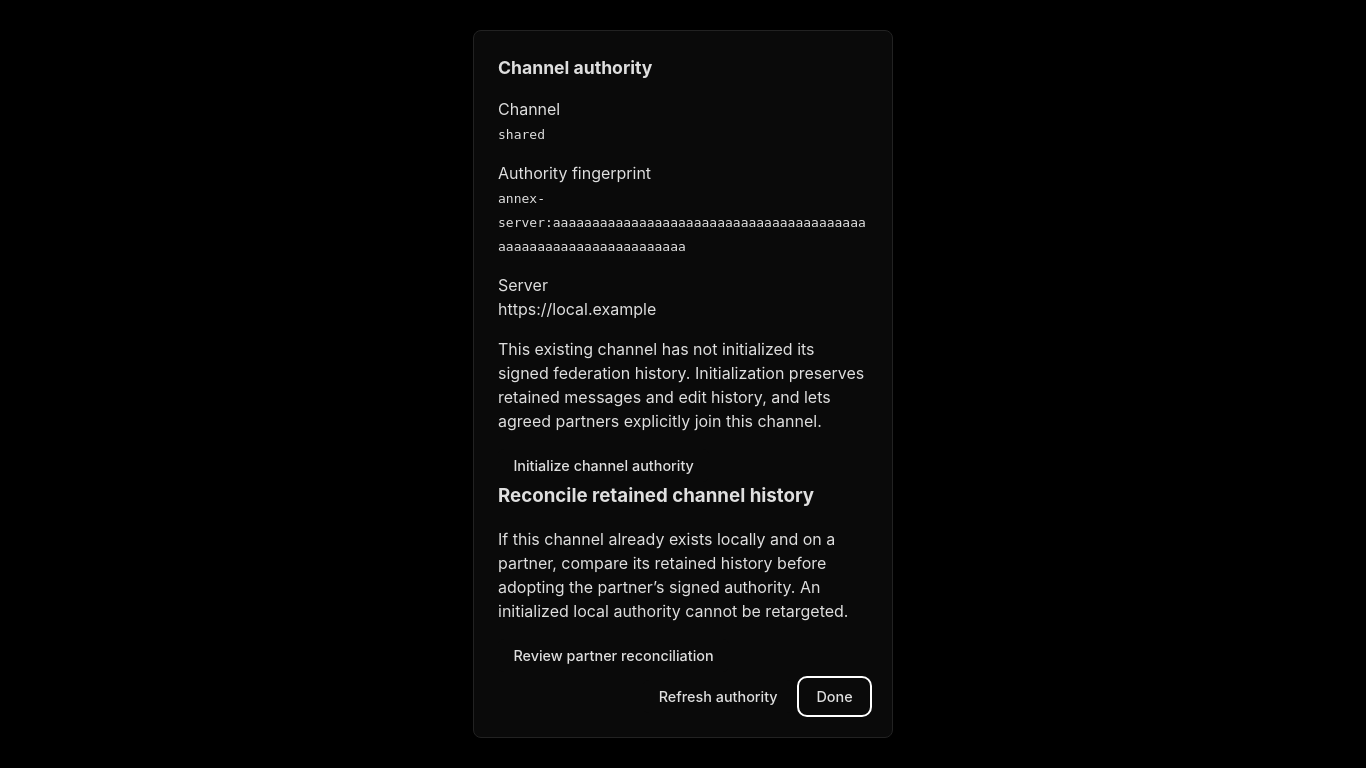
Test: explains retained history and requires separate initialization confirmation
Expected: the dialog shows "preserves retained messages and edit history", [498, 339, 864, 431]
Click the button "Initialize channel authority": (604, 466) [498, 449, 709, 482]
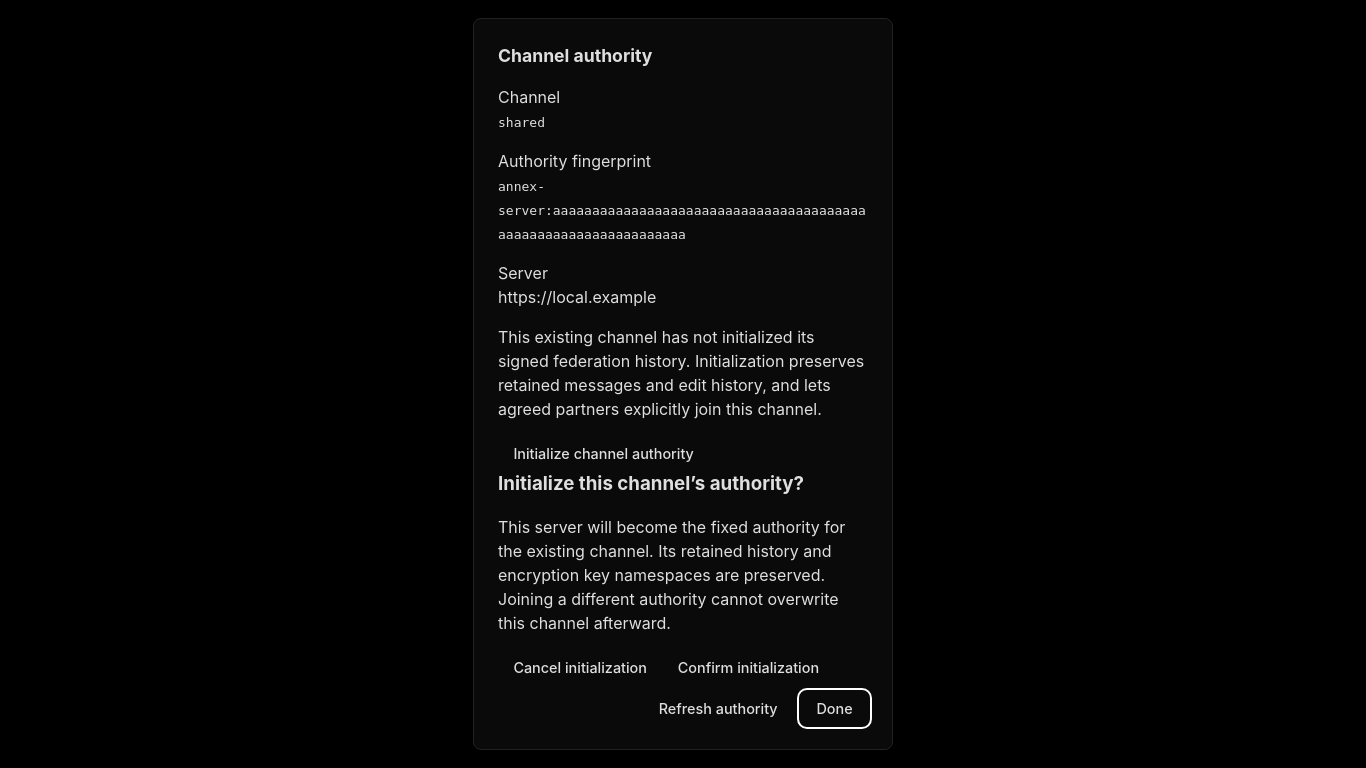
Click the button "Cancel initialization": (580, 667) [498, 650, 662, 684]
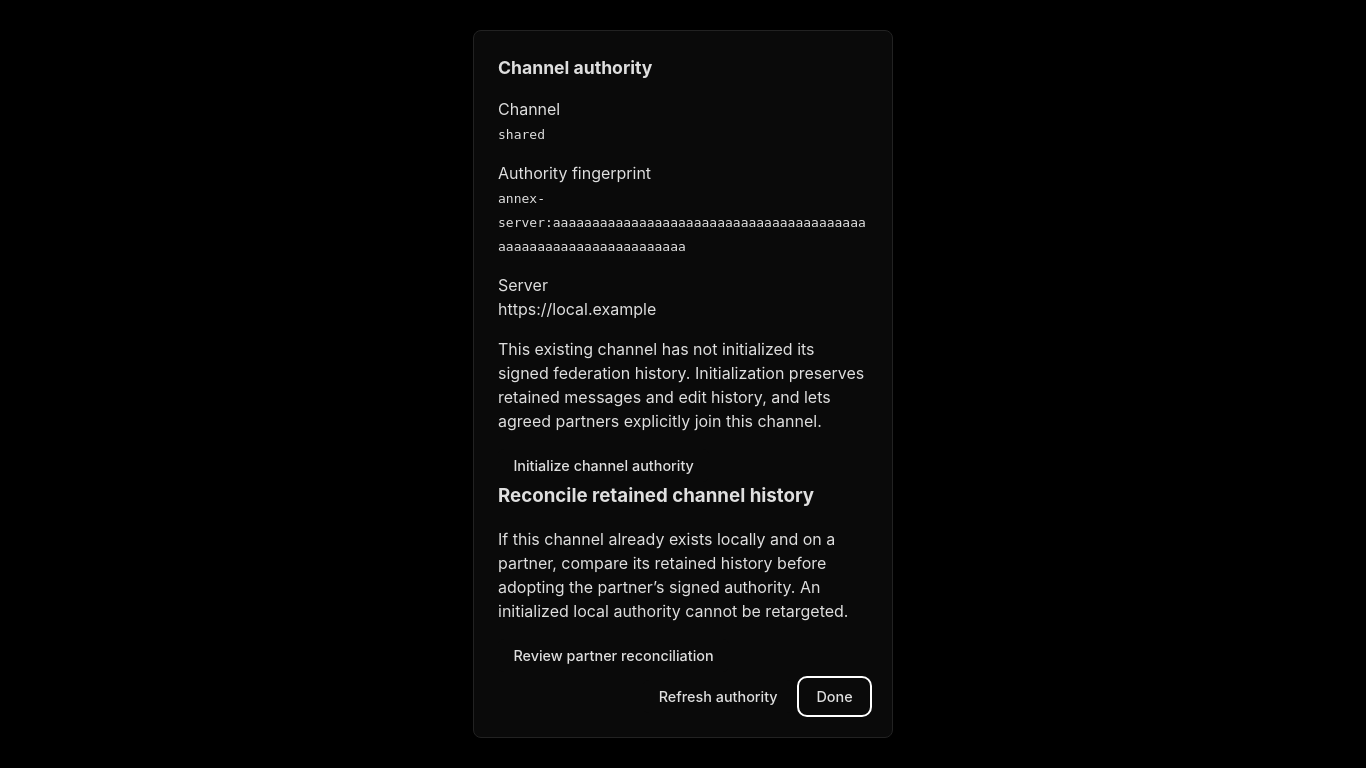
Click the button "Initialize channel authority": (604, 466) [498, 449, 709, 482]
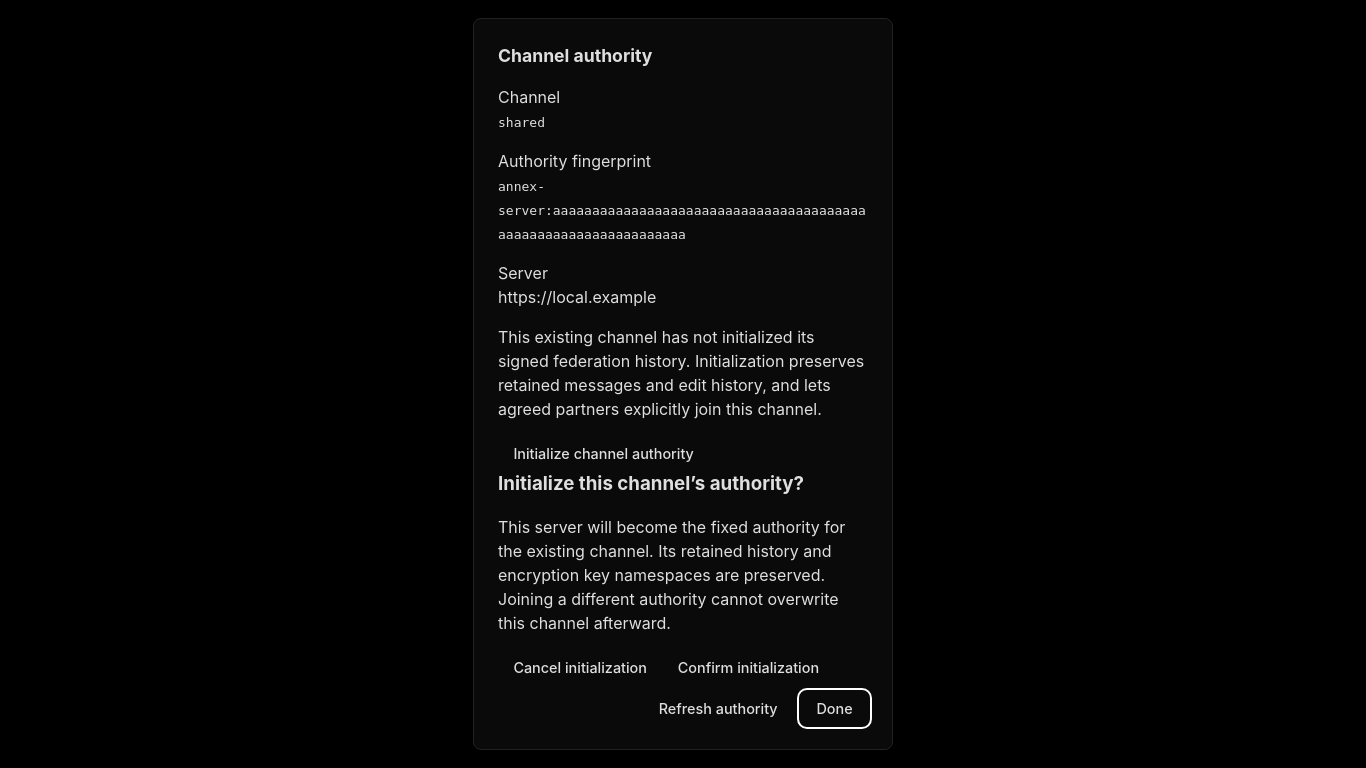
Click the button "Confirm initialization": (748, 667) [662, 650, 834, 684]
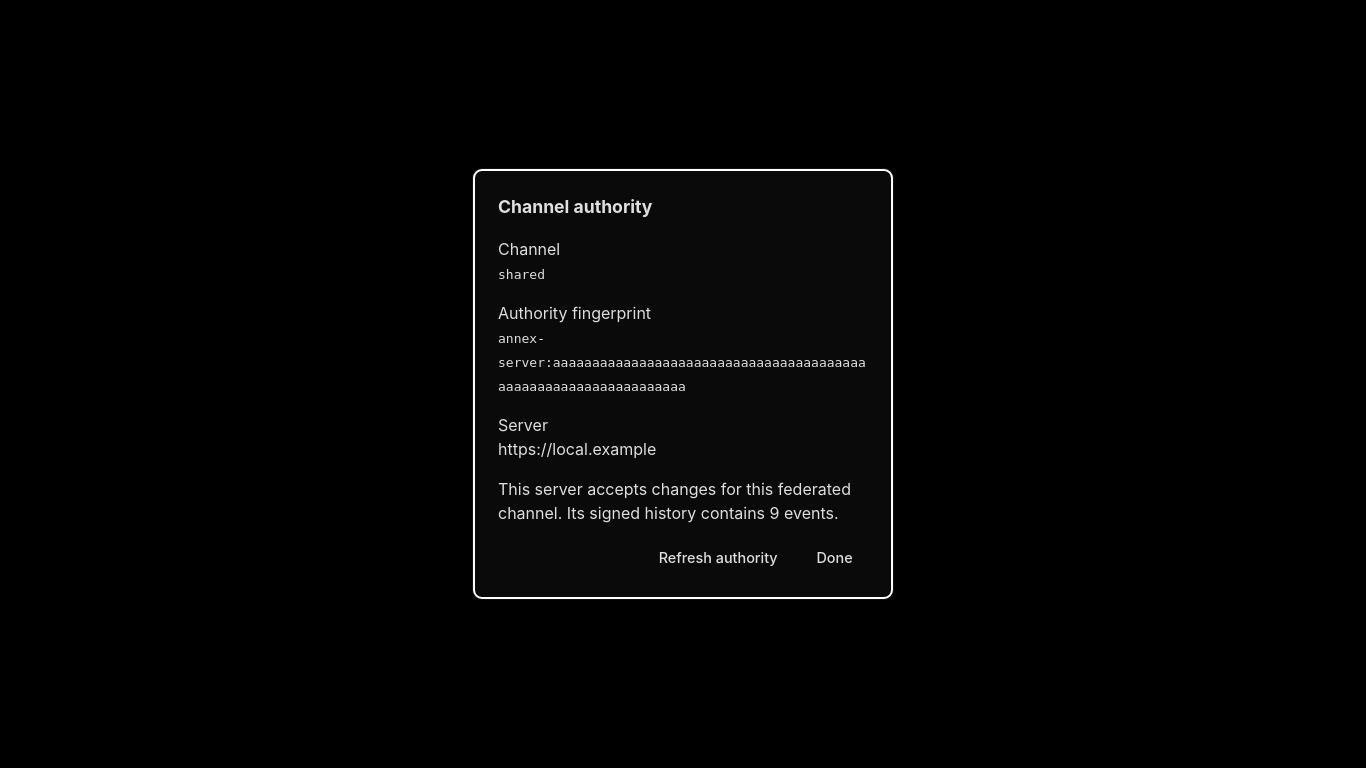
Expected: the message shows "9 events", [498, 476, 868, 524]
Expected: the button "Initialize channel authority" is gone
